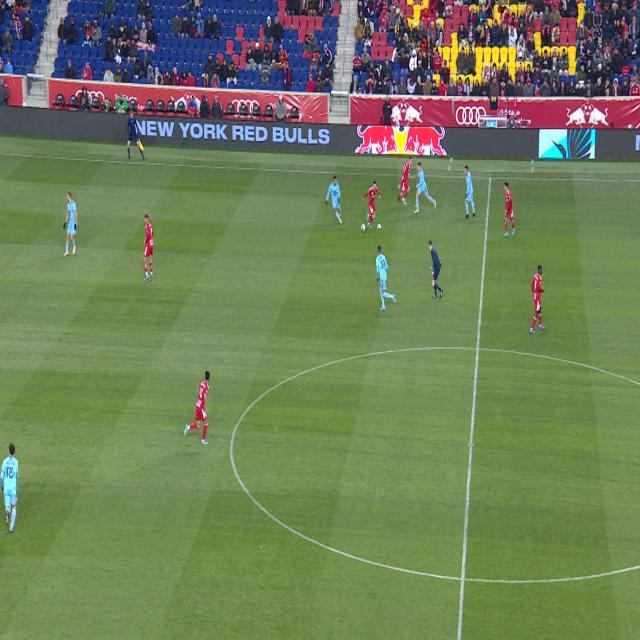football: (361, 224, 366, 232)
player: (184, 371, 210, 445), (0, 443, 18, 533), (376, 245, 396, 310), (414, 162, 436, 213), (530, 265, 545, 334), (63, 192, 78, 257), (398, 156, 416, 205), (362, 182, 381, 228), (325, 176, 342, 224), (143, 214, 154, 280), (504, 182, 515, 236), (464, 166, 475, 218)
referee: (429, 240, 443, 299)
